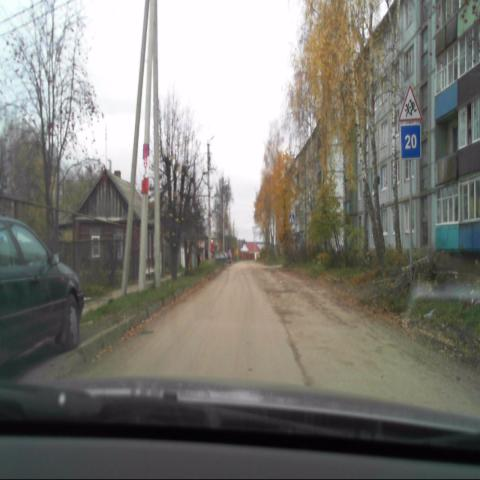6_2: (399, 125, 420, 158)
